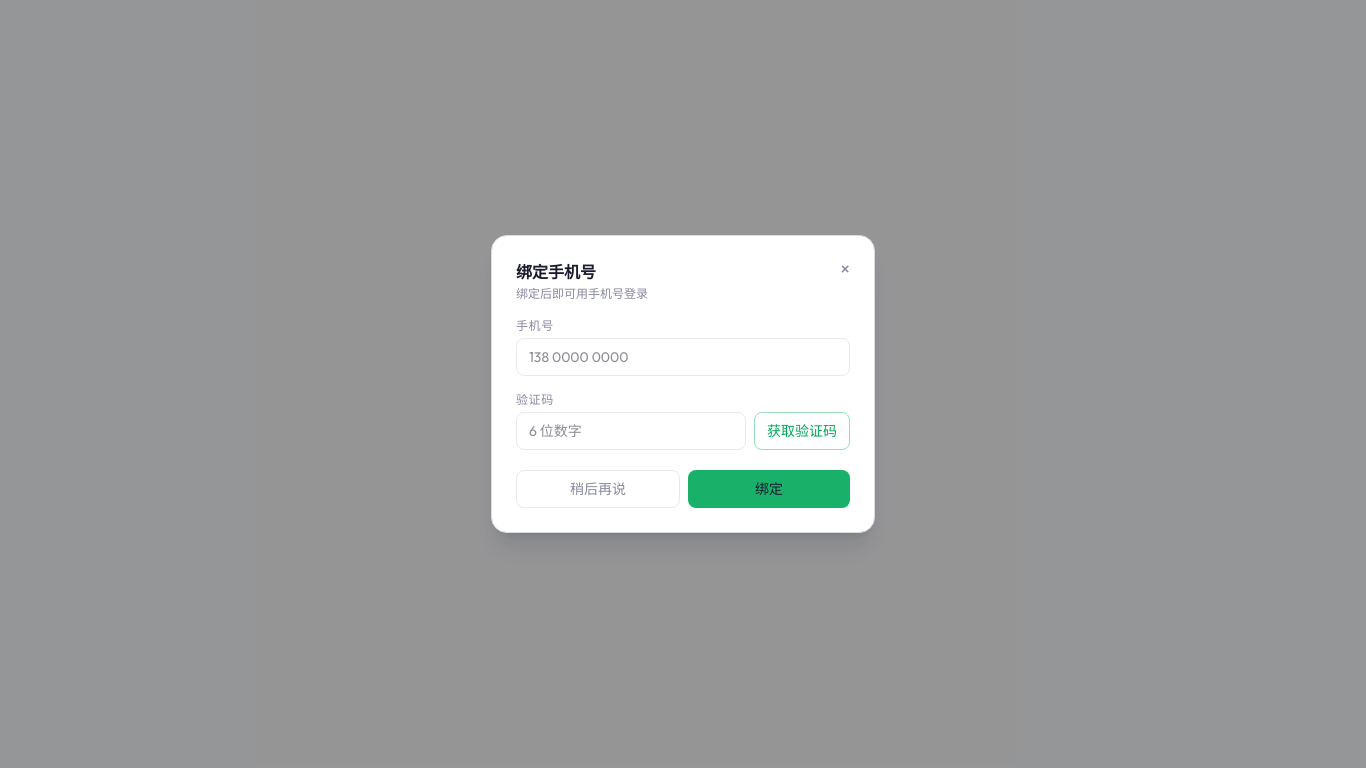
Scenario: PhoneBindModal › sends a bind-mode code (login_only false) and starts the countdown
Type "13800138000" into the field labelled "手机号" at (683, 357), box [516,338,850,376]
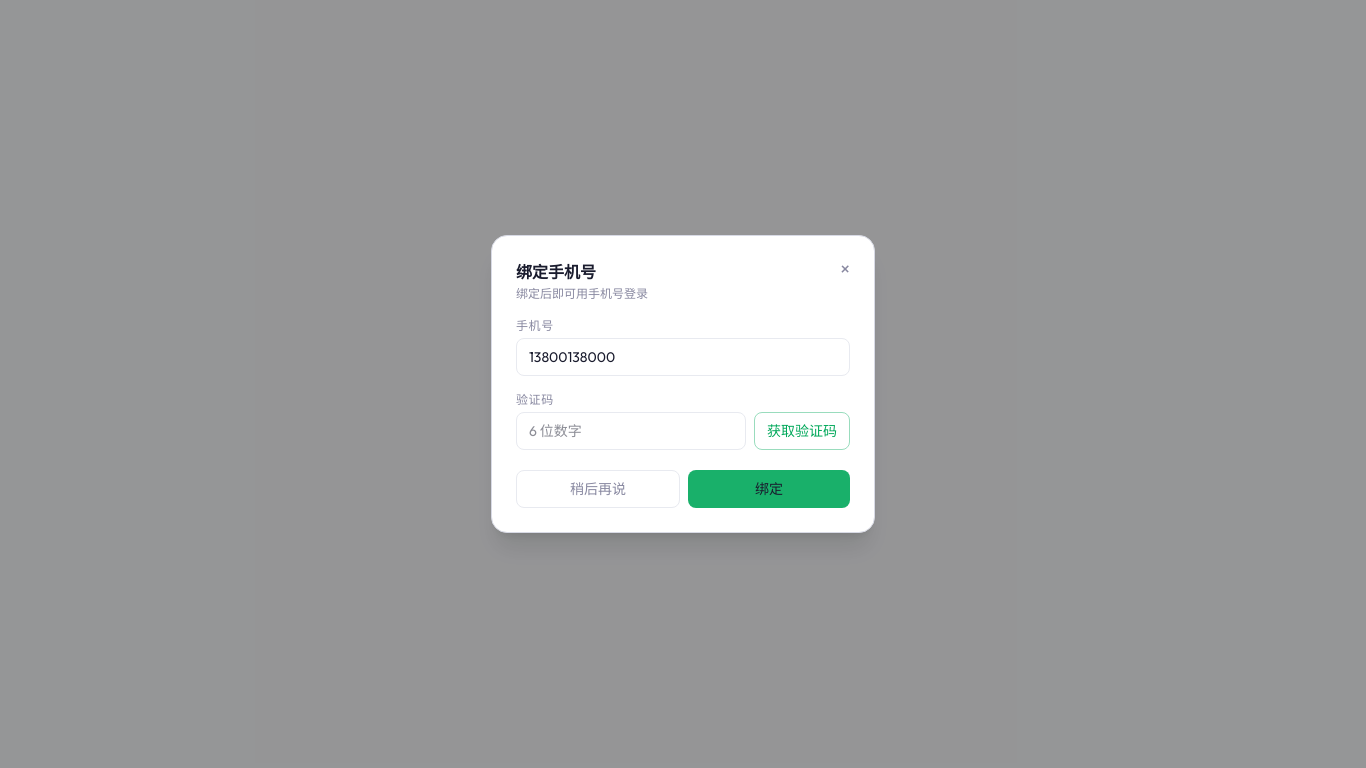
Click the button "获取验证码" at (802, 431), box [754,412,850,450]
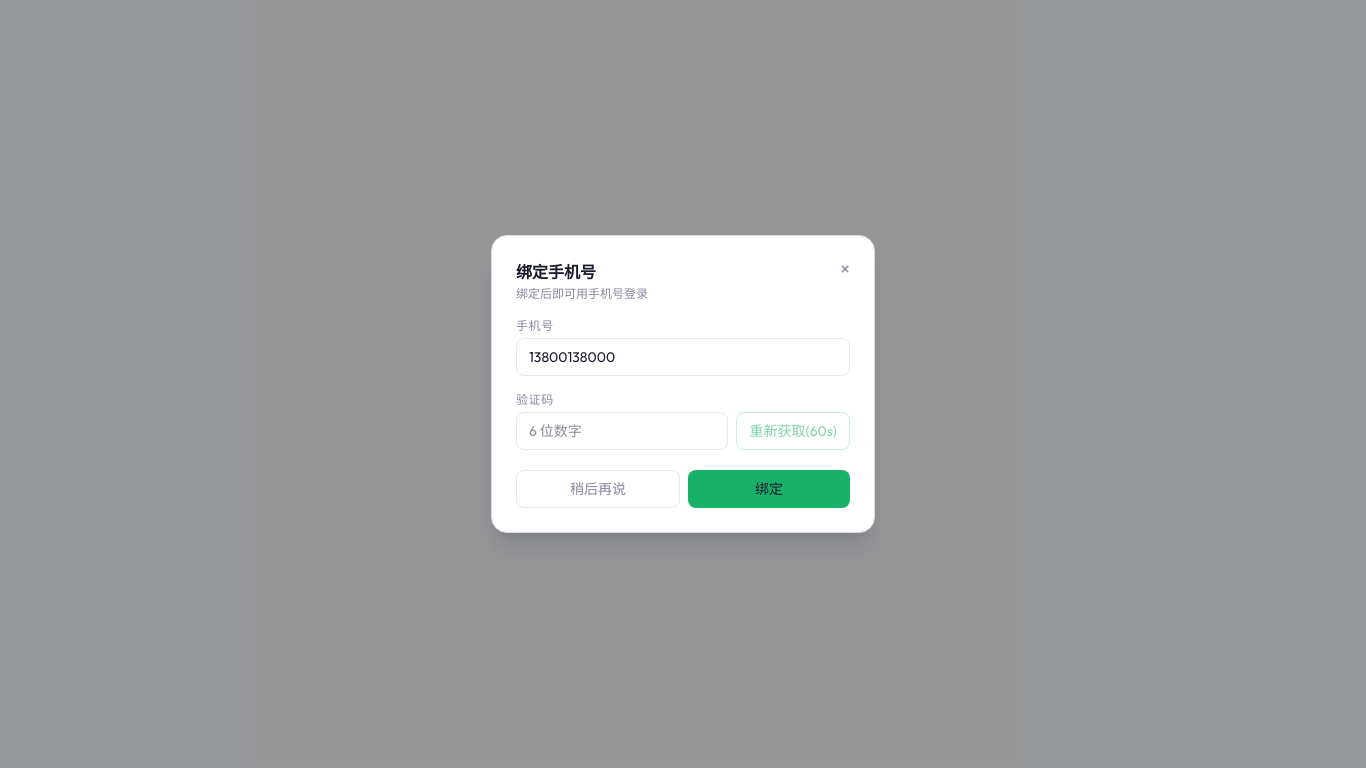
Now the button "重新获取(60s)" is shown, box [736,412,850,450]
